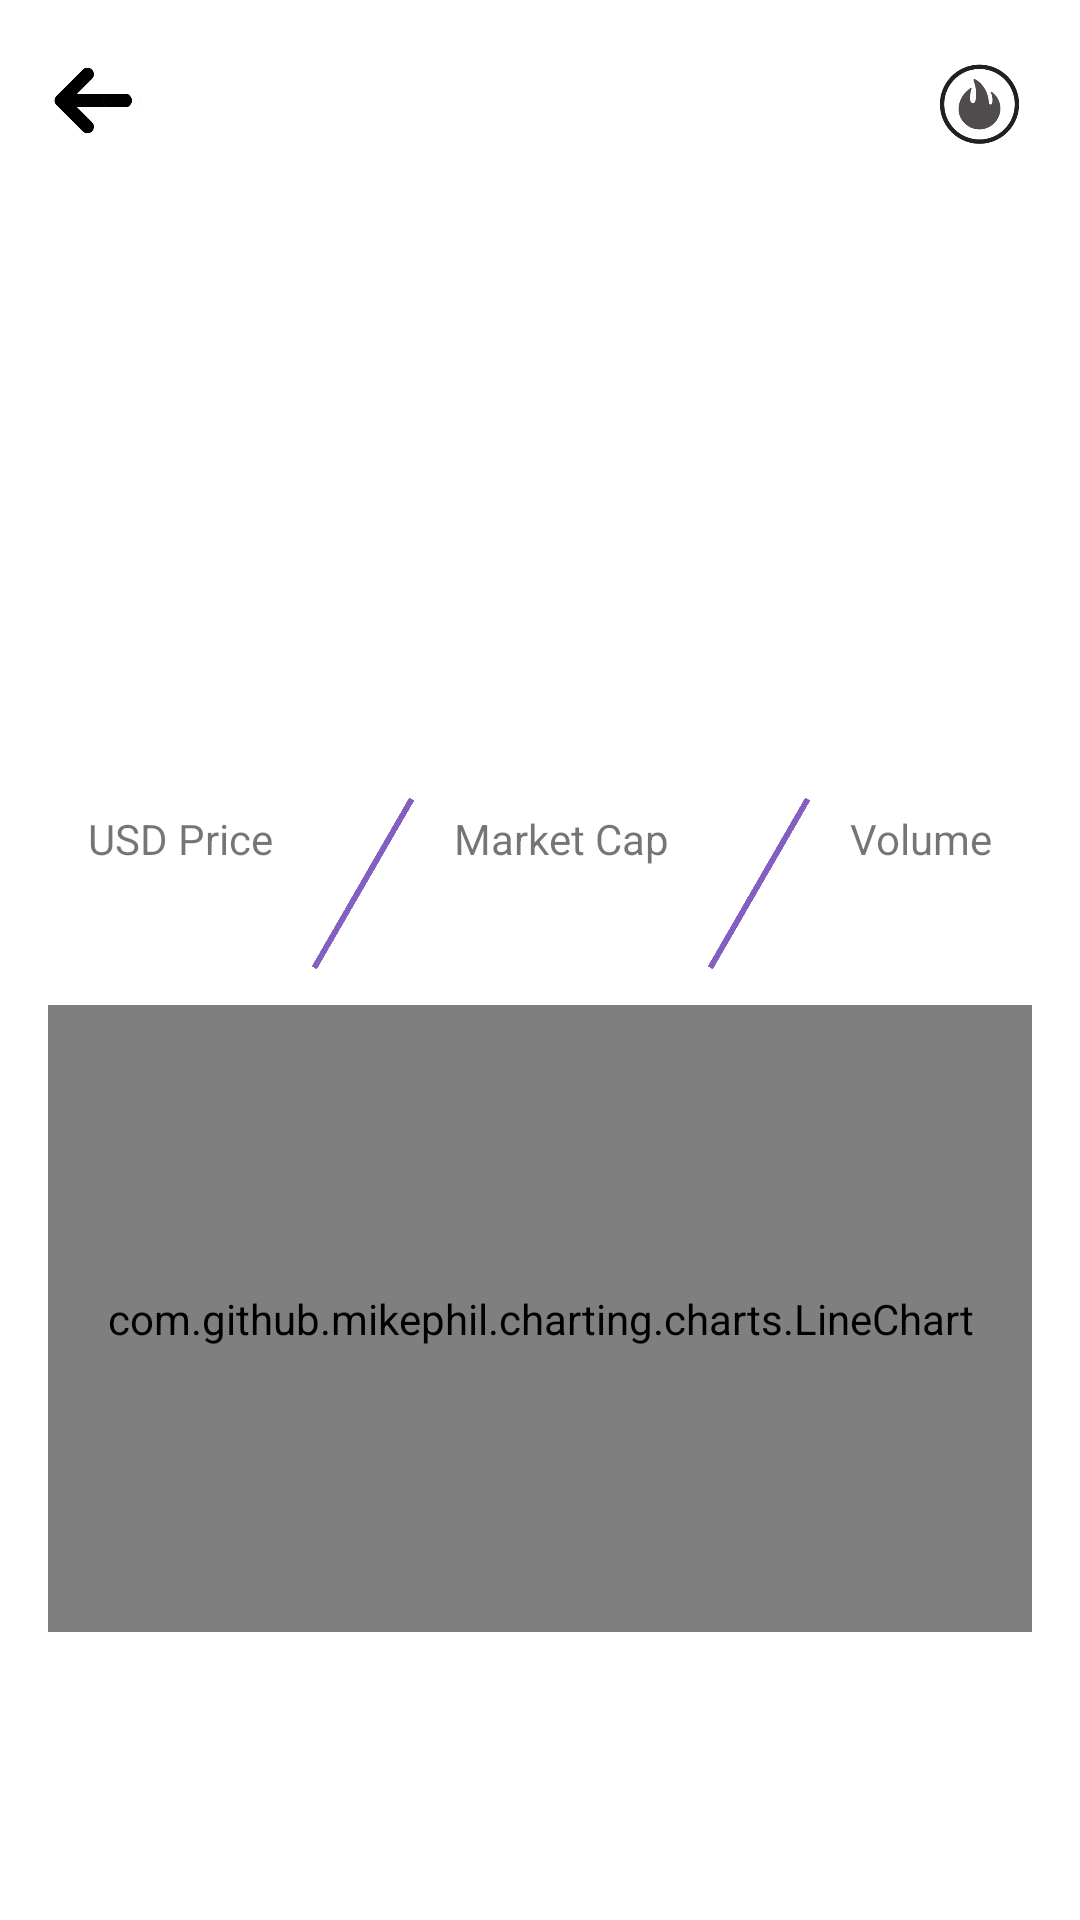

Icons on this 1080px x 1920px Android screen, each with the point to tap as [x,y]:
back: [93,100]
